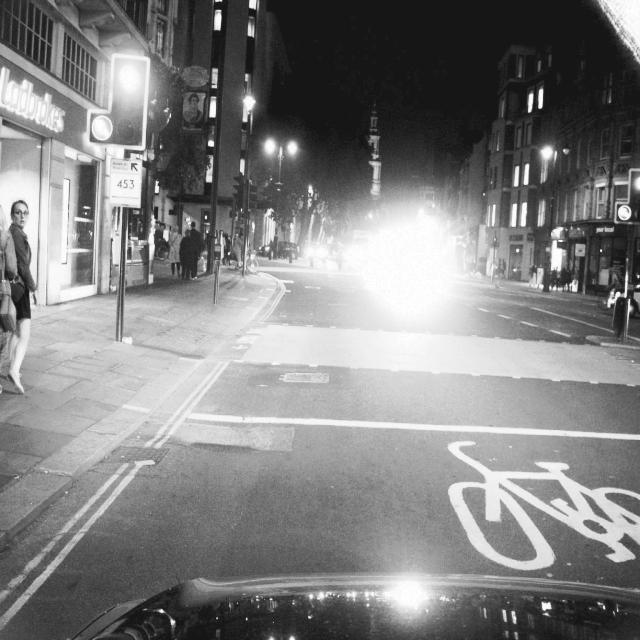Light: (113, 58, 150, 143), (90, 112, 113, 144), (630, 169, 640, 221)
Sign: (110, 158, 142, 208)
